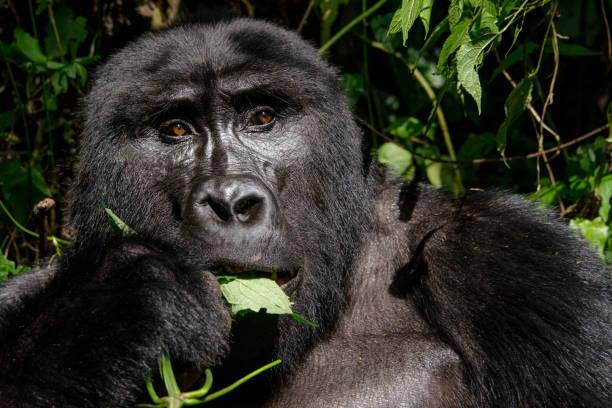goriile_montagne: (6, 10, 612, 408)
